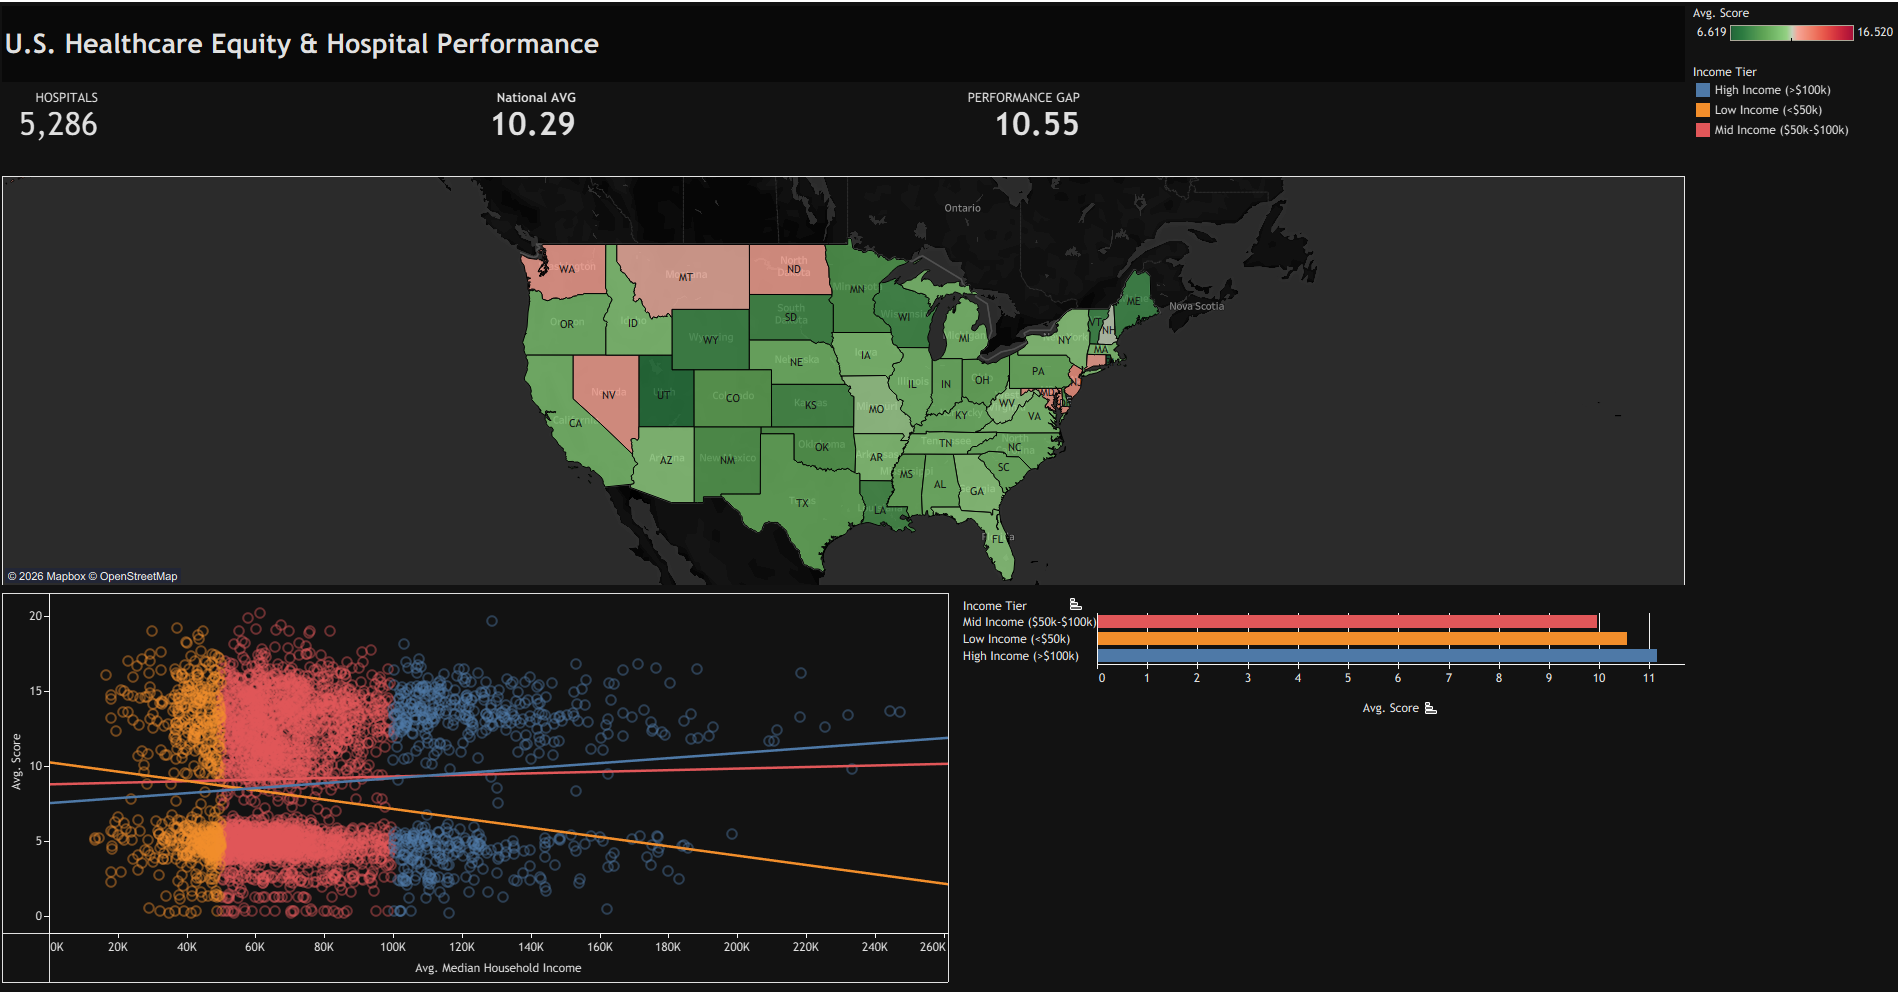

The dashboard page shown, as its layout file describes it:
{"tool":"tableau","page":{"name":"Dashboard 1","canvas":[1000,1000],"units":"permille","ordinal":0},"visuals":[{"type":"text","box":[8.5,9.5,756.1,82.6]},{"type":"legend","title":"Map","param":"[federated.1md3m7p05offnb166bxzf0fcu5jn].[avg:Score:qk]","box":[764.6,9.5,226.8,69.7]},{"type":"legend","title":"bar chart","param":"[federated.1md3m7p05offnb166bxzf0fcu5jn].[none:Calculation_893120138110029824:nk","box":[764.6,79.1,226.8,98]},{"type":"worksheet","title":"total hopital count KPI","mark":"Automatic","box":[8.5,92,213.7,85]},{"type":"worksheet","title":"KPI-national avg","mark":"Automatic","box":[222.2,92,207.7,85]},{"type":"worksheet","title":"KPI-Equity Gap","mark":"Automatic","box":[429.9,92,334.8,85]},{"type":"worksheet","title":"Map","mark":"Multipolygon","box":[8.5,177,756.1,412.1]},{"type":"worksheet","title":"scatterd plot ","mark":"Automatic","rows":["Score"],"cols":["Median_Household_Income"],"box":[8.5,589.1,427,401.4]},{"type":"worksheet","title":"bar chart","mark":"Automatic","rows":["Calculation_893120138110029824"],"cols":["Score"],"box":[435.5,589.1,329.1,401.4]}]}

Visuals, with their boxes on the dashboard's canvas, which has no fixed pixel size, in thousandths of its width and height (x1, y1, x2, y2). These are canvas units, not pixel positions in the 1898x992 screenshot, which may show the page scaled, cropped or inside an application window:
text: [8,10,765,92]
"Map" legend: [765,10,991,79]
"bar chart" legend: [765,79,991,177]
"total hopital count KPI" worksheet: [8,92,222,177]
"KPI-national avg" worksheet: [222,92,430,177]
"KPI-Equity Gap" worksheet: [430,92,765,177]
"Map" worksheet (Multipolygon marks): [8,177,765,589]
"scatterd plot " worksheet: [8,589,436,990]
"bar chart" worksheet: [436,589,765,990]
